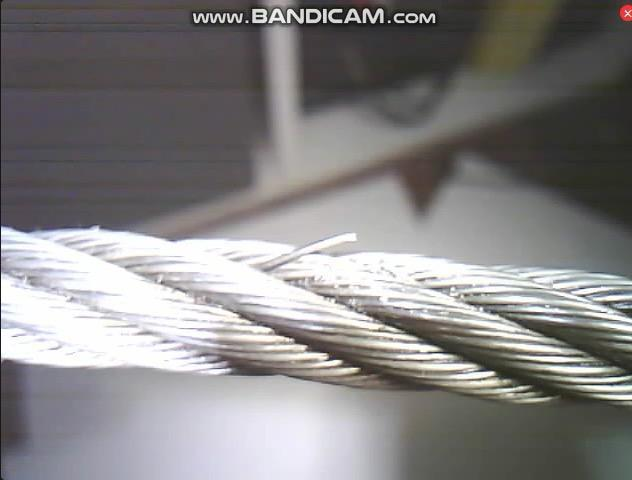break: (254, 230, 375, 276)
